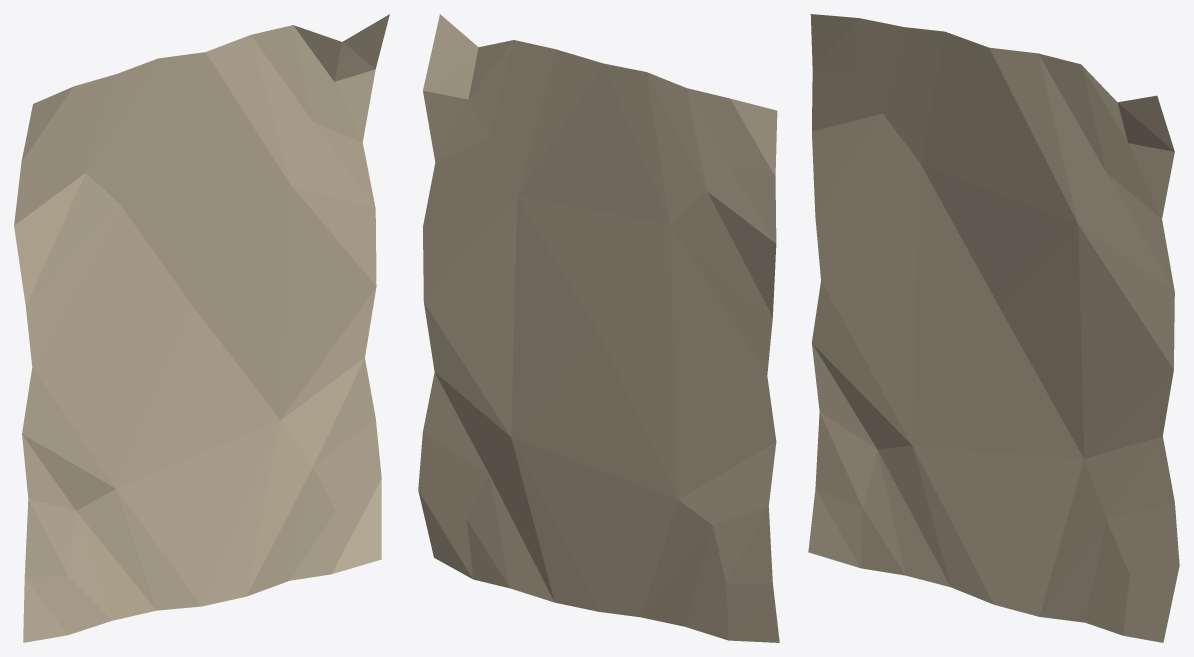
Rendered from paper.glb.
The picture shows the model from 3 angles, left to right: view 1: azimuth 30°, elevation 25°; view 2: azimuth 150°, elevation 25°; view 3: azimuth 330°, elevation 25°; orthographic projection. The views are drawn at different scales.
Parts seen in each view (by area): view 1: paper; view 2: paper; view 3: paper.
Boxes of the visible parts, x1=… form: paper: x1=14, y1=14, x2=389, y2=642; paper: x1=418, y1=14, x2=779, y2=642; paper: x1=808, y1=14, x2=1179, y2=642.
Size of the model in its own units: 2.06 by 3.03 by 0.1794.
